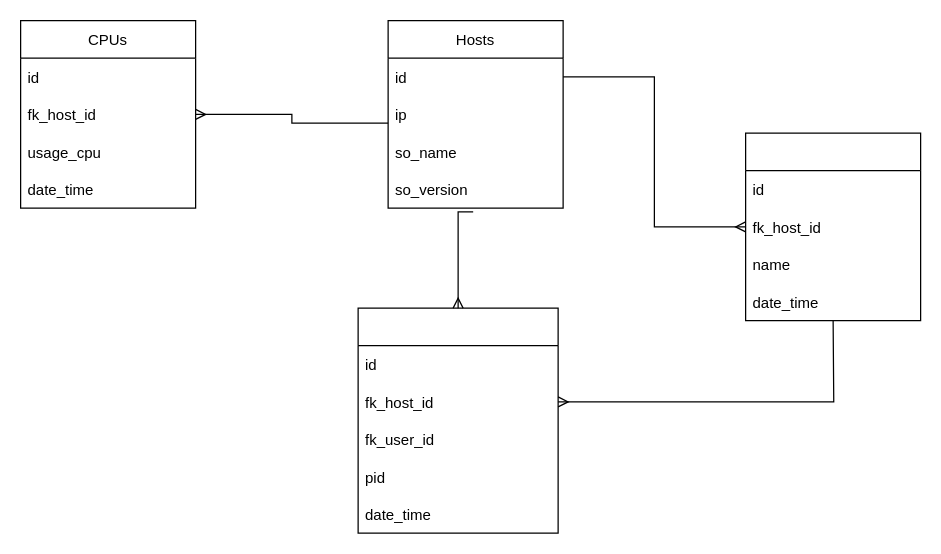
Some shapes in this 941 by 554 pixel diagram are drawn without their labels. Here are the shapes that lost their labels. From the top down, the box of each, then its label:
(744, 132, 921, 321): Users
(357, 307, 558, 533): Processes
